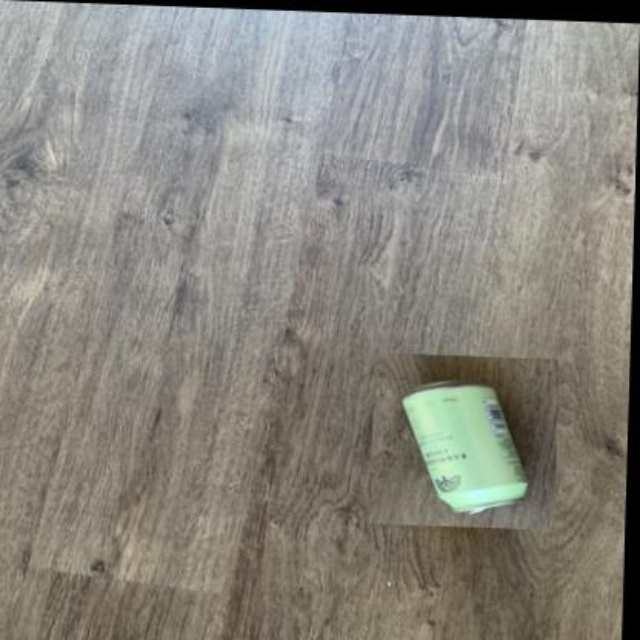trash: (402, 383, 526, 511)
